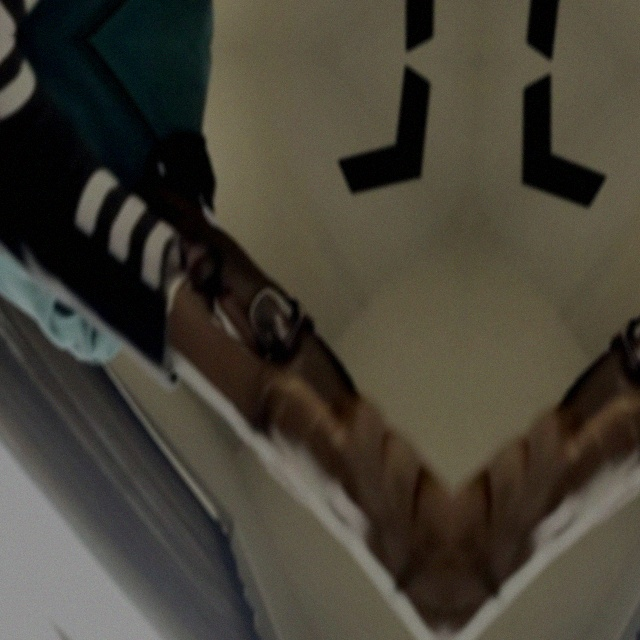Rock: (446, 310, 640, 633)
